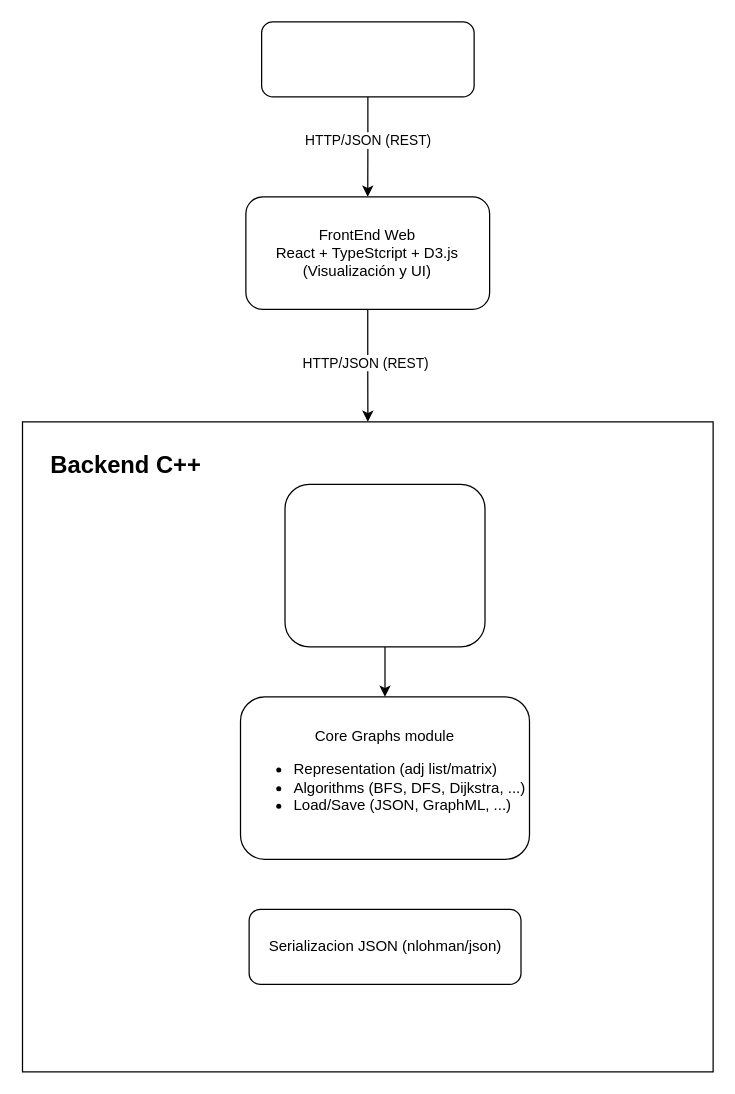
The diagram is 735 pixels wide and 1094 high, and some of its shapes have lost their labels. Here are the shapes that lost their labels. From the top down, the centre of each, then its label:
the point at 367,59: User (Web Navegator/ frontEnd)
the point at 384,565: API REST /generate_graph /run_algorithm
